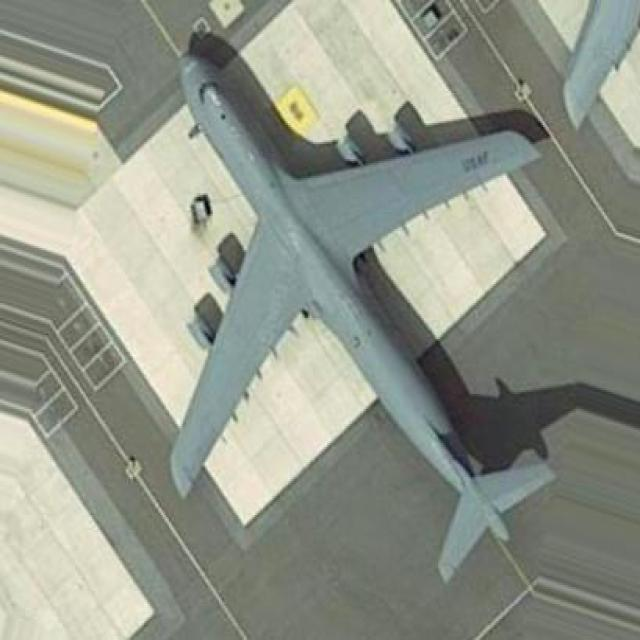C-5_TopDown: (164, 17, 566, 583)
